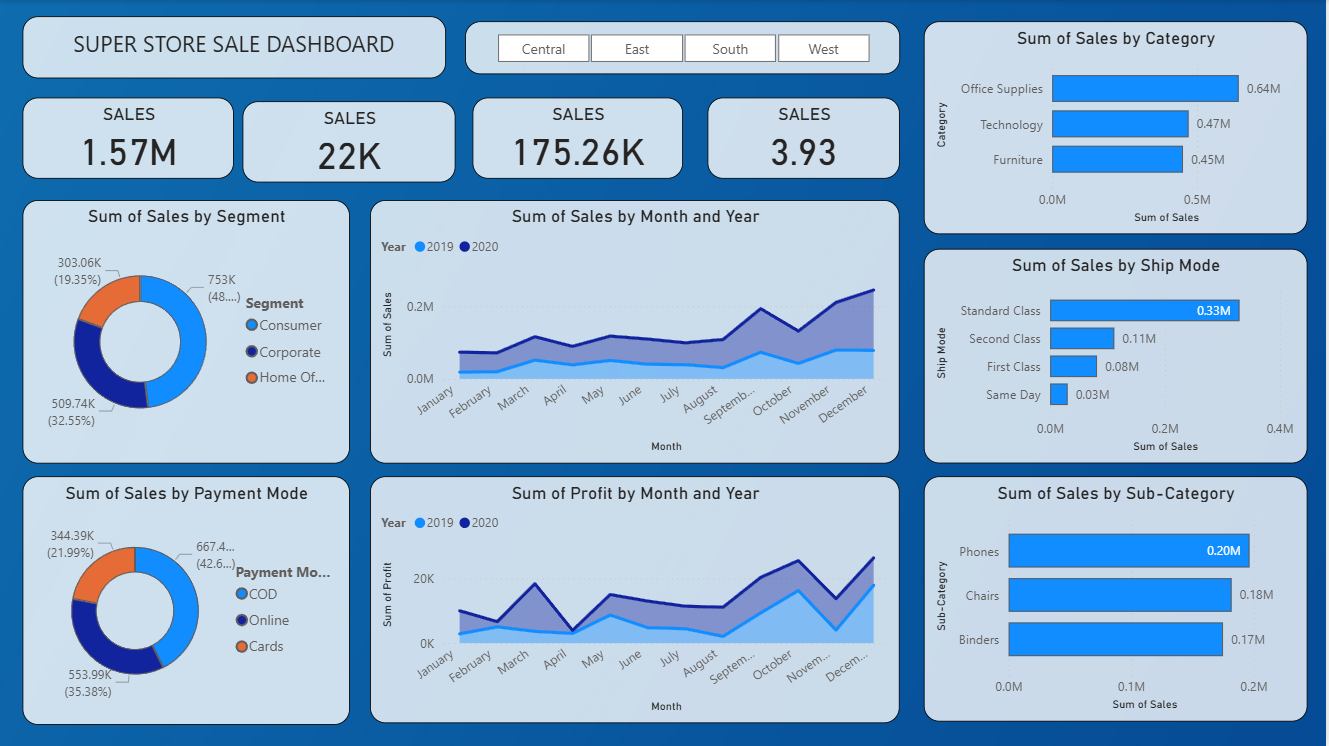

The page's visual inventory and layout, read from the dashboard file:
{"tool":"powerbi","page":{"name":"Page 1","canvas":[1280,720],"ordinal":0},"visuals":[{"type":"barChart","fields":{"Category":["SuperStore Sales DataSet.Category"],"Y":["Sum(SuperStore Sales DataSet.Sales)"]},"box":[891.4,20,370,205.7],"z":0},{"type":"barChart","fields":{"Category":["SuperStore Sales DataSet.Sub-Category"],"Y":["Sum(SuperStore Sales DataSet.Sales)"]},"box":[891.4,460,370,237.1],"z":1000},{"type":"barChart","fields":{"Y":["Sum(SuperStore Sales DataSet.Sales)"],"Category":["SuperStore Sales DataSet.Ship Mode"]},"box":[891.4,240,370,207.1],"z":2000},{"type":"stackedAreaChart","fields":{"Y":["Sum(SuperStore Sales DataSet.Sales)"],"Series":["SuperStore Sales DataSet.Order Date.Variation.Date Hierarchy.Year"],"Category":["SuperStore Sales DataSet.Order Date.Variation.Date Hierarchy.Month"]},"box":[357.1,192.9,511.4,254.3],"z":3000},{"type":"stackedAreaChart","fields":{"Series":["SuperStore Sales DataSet.Order Date.Variation.Date Hierarchy.Year"],"Category":["SuperStore Sales DataSet.Order Date.Variation.Date Hierarchy.Month"],"Y":["Sum(SuperStore Sales DataSet.Profit)"]},"box":[357.1,460,511.4,238.6],"z":4000},{"type":"donutChart","fields":{"Category":["SuperStore Sales DataSet.Segment"],"Y":["Sum(SuperStore Sales DataSet.Sales)"]},"box":[21.4,192.9,315.7,254.3],"z":5000},{"type":"donutChart","fields":{"Category":["SuperStore Sales DataSet.Payment Mode"],"Y":["Sum(SuperStore Sales DataSet.Sales)"]},"box":[21.4,460,315.7,240],"z":6000},{"type":"slicer","fields":{"Values":["SuperStore Sales DataSet.Region"]},"box":[448.6,20,420,51.4],"z":7000},{"type":"textbox","box":[21.4,15.7,408.6,60],"z":8000},{"type":"card","title":"SALES","fields":{"Values":["Sum(SuperStore Sales DataSet.Sales)"]},"box":[21.4,94.3,204.3,78.6],"z":9000},{"type":"card","title":"SALES","fields":{"Values":["Sum(SuperStore Sales DataSet.Quantity)"]},"box":[234.3,97.1,205.7,78.6],"z":10000},{"type":"card","title":"SALES","fields":{"Values":["Sum(SuperStore Sales DataSet.Profit)"]},"box":[455.7,94.3,202.9,78.6],"z":11000},{"type":"card","title":"SALES","fields":{"Values":["Avg(SuperStore Sales DataSet.AVGDEL)"]},"box":[682.9,94.3,185.7,78.6],"z":12000}]}

Visuals, with their boxes in screenshot pixels (x1, y1, x2, y2), scaled from the page's 1280x720 canvas onto the 1329x746 screenshot:
barChart - SuperStore Sales DataSet.Category x Sum(SuperStore Sales DataSet.Sales): Rect(926, 21, 1310, 234)
barChart - SuperStore Sales DataSet.Sub-Category x Sum(SuperStore Sales DataSet.Sales): Rect(926, 477, 1310, 722)
barChart - Sum(SuperStore Sales DataSet.Sales) x SuperStore Sales DataSet.Ship Mode: Rect(926, 249, 1310, 463)
stackedAreaChart - Sum(SuperStore Sales DataSet.Sales) x SuperStore Sales DataSet.Order Date.Variation.Date Hierarchy.Year: Rect(371, 200, 902, 463)
stackedAreaChart - SuperStore Sales DataSet.Order Date.Variation.Date Hierarchy.Year x SuperStore Sales DataSet.Order Date.Variation.Date Hierarchy.Month: Rect(371, 477, 902, 724)
donutChart - SuperStore Sales DataSet.Segment x Sum(SuperStore Sales DataSet.Sales): Rect(22, 200, 350, 463)
donutChart - SuperStore Sales DataSet.Payment Mode x Sum(SuperStore Sales DataSet.Sales): Rect(22, 477, 350, 725)
slicer - SuperStore Sales DataSet.Region: Rect(466, 21, 902, 74)
textbox: Rect(22, 16, 446, 78)
"SALES" card: Rect(22, 98, 234, 179)
"SALES" card: Rect(243, 101, 457, 182)
"SALES" card: Rect(473, 98, 684, 179)
"SALES" card: Rect(709, 98, 902, 179)
